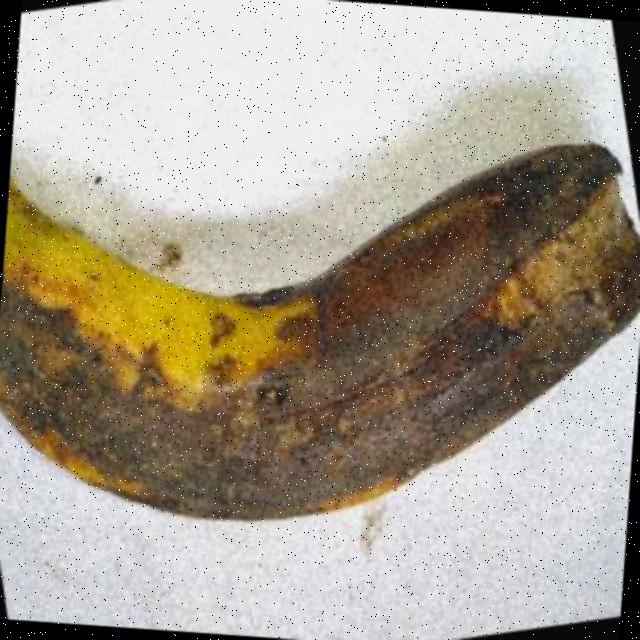Rotten: (0, 50, 640, 561)
